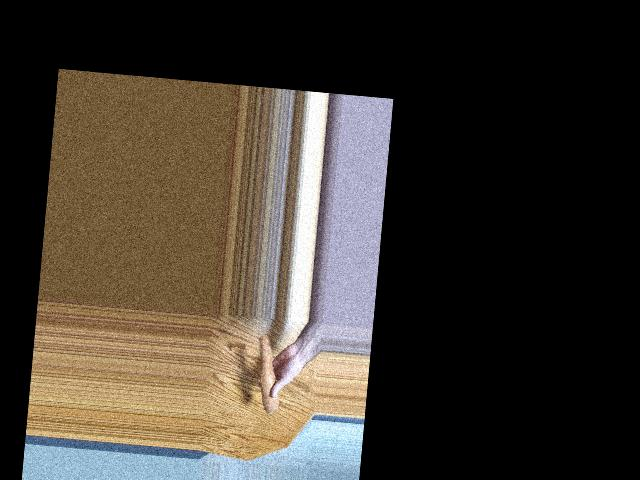sweet_potato: (256, 335, 278, 412)
